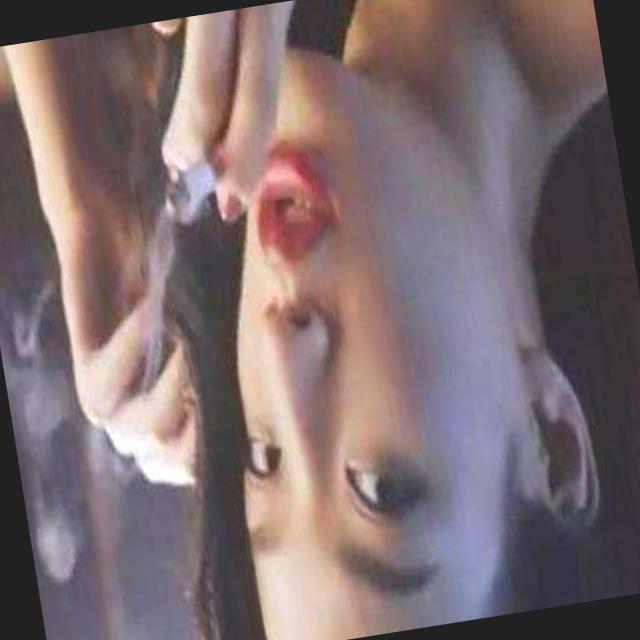cigarette: (149, 125, 261, 245)
